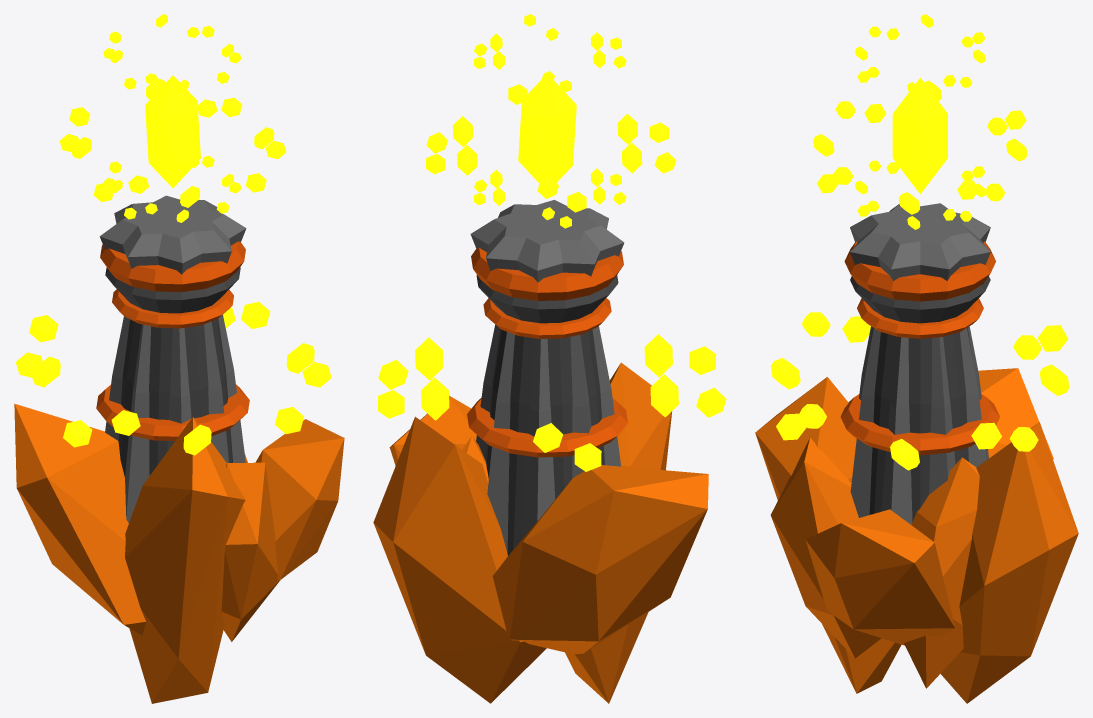
File: Tower Of Mages.fbx
3 renders of one model, left to right at view 1: azimuth 30°, elevation 25°; view 2: azimuth 150°, elevation 25°; view 3: azimuth 270°, elevation 25°, orthographic. The views are drawn at different scales.
Visible parts, largest first — view 1: Torus.003; view 2: Torus.003; view 3: Torus.003.
Boxes of the visible parts, x1=… form: Torus.003: x1=14, y1=14, x2=344, y2=703; Torus.003: x1=373, y1=14, x2=726, y2=703; Torus.003: x1=755, y1=14, x2=1078, y2=703.
Bounding box in the file's own units: 1132 × 2249 × 998.
